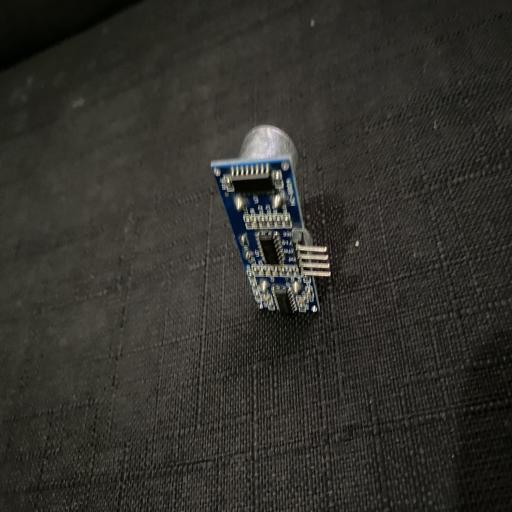Ultrasonic Sensor: (210, 123, 331, 315)
